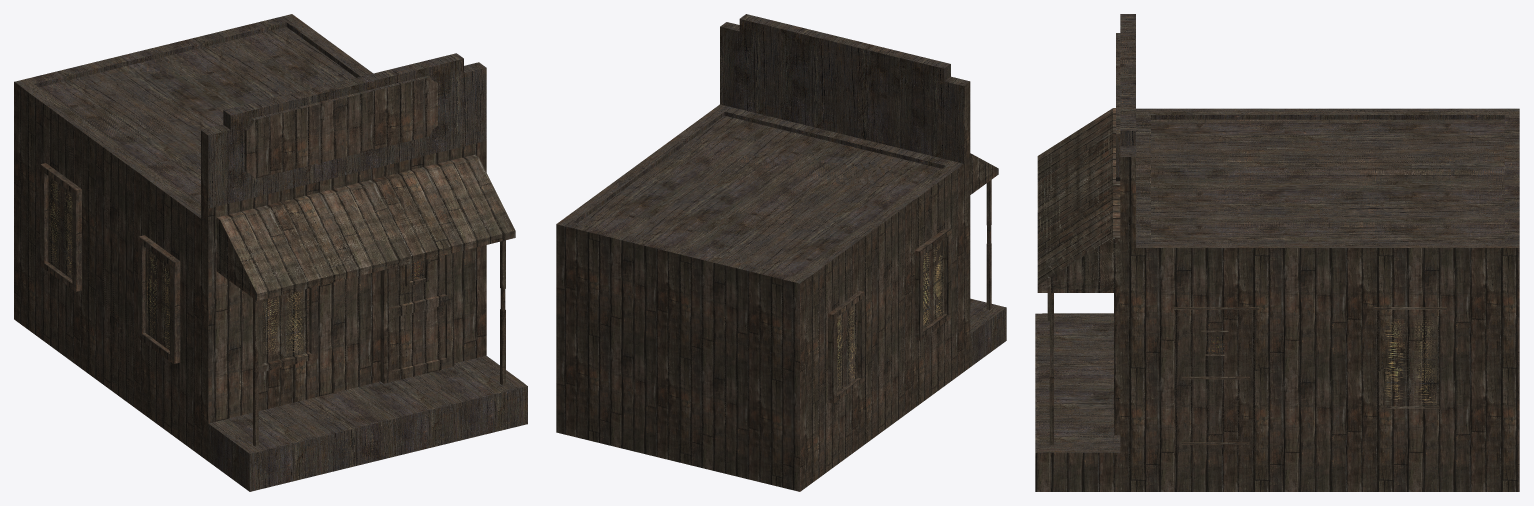
Rendered from House 8 N.fbx.
The picture shows the model from 3 angles, left to right: view 1: azimuth 30°, elevation 25°; view 2: azimuth 150°, elevation 25°; view 3: azimuth 270°, elevation 25°; orthographic projection. The views are drawn at different scales.
Parts seen in each view (by area): view 1: Model; view 2: Model; view 3: Model.
Part boxes in pixels (bbox=[...]): Model: bbox=[14, 14, 527, 491]; Model: bbox=[556, 14, 1006, 491]; Model: bbox=[1035, 14, 1519, 491].
Size of the model in its own units: 33.27 by 37.39 by 46.92.
